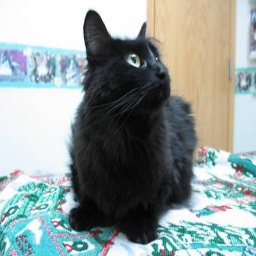cat: (59, 8, 202, 240)
